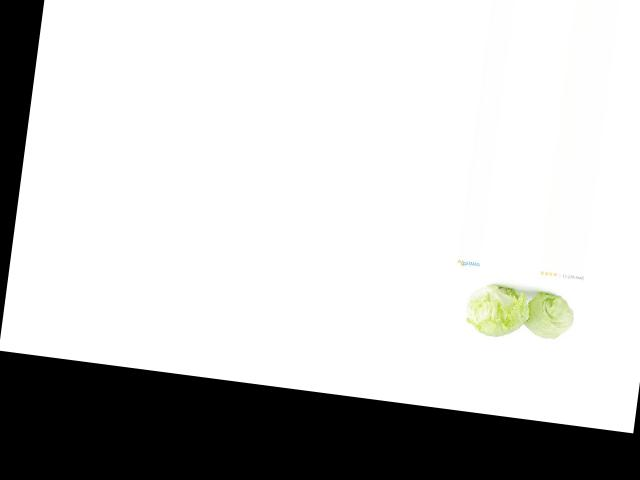lettuce: (508, 278, 579, 342)
